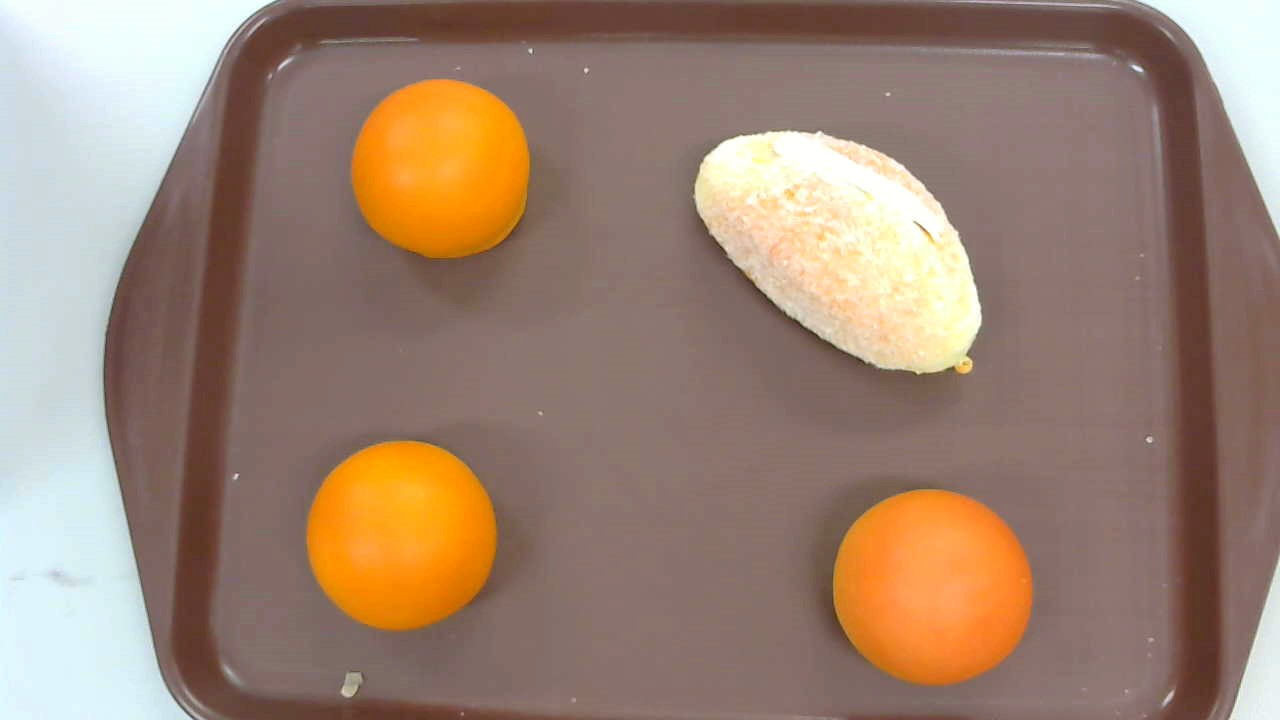bun: (833, 488, 1034, 685), (305, 440, 497, 631), (350, 76, 530, 259)
coconut: (694, 128, 983, 374)
